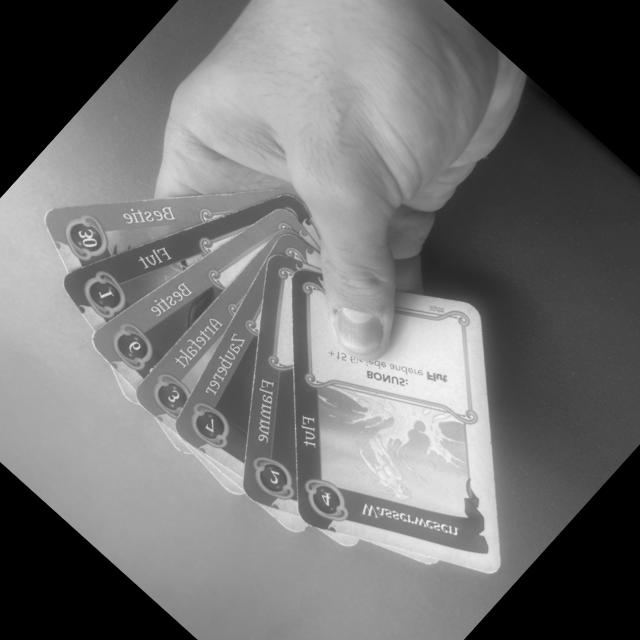Book Of Changes: (131, 234, 279, 434)
Candle: (246, 254, 298, 517)
Collector: (173, 258, 265, 479)
Dragon: (39, 188, 289, 272)
Fountain Of Life: (58, 194, 281, 331)
War Horse: (86, 203, 284, 390)
Water Elemental: (290, 269, 500, 579)
